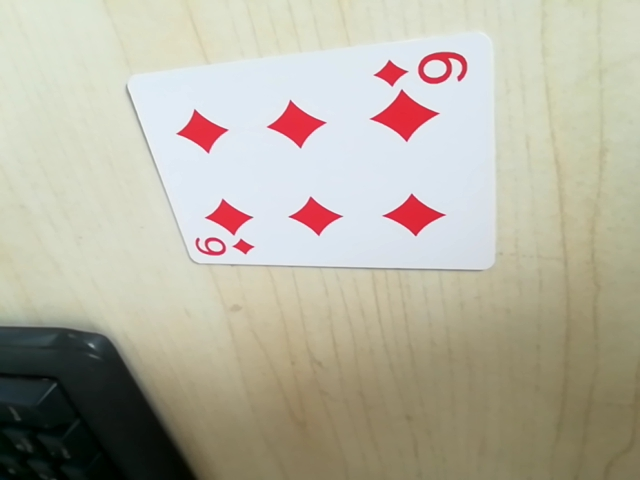fk 6: (374, 45, 473, 95), (192, 233, 256, 264)
